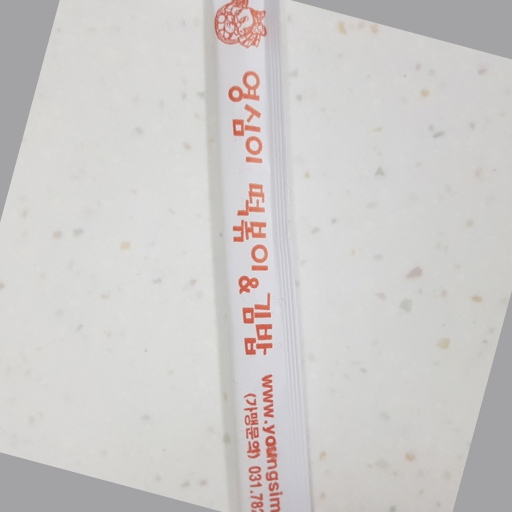Paper_2: (199, 1, 323, 512)
